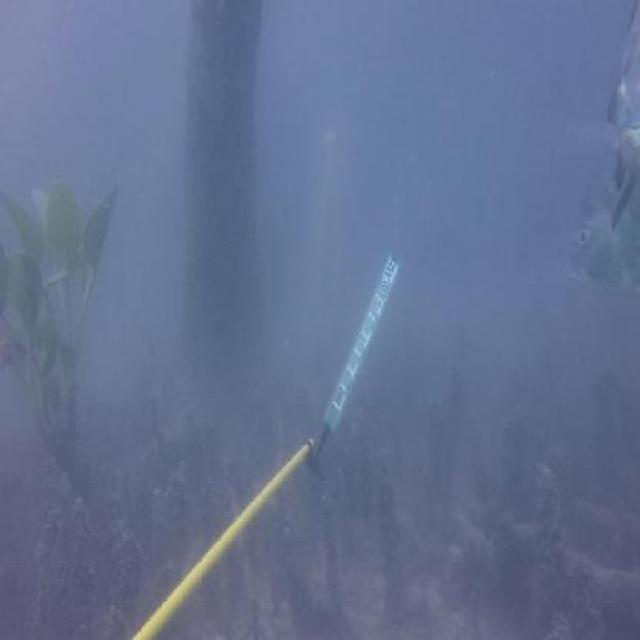acanthopagrus_palmaris: (566, 172, 640, 312), (604, 1, 640, 190)
